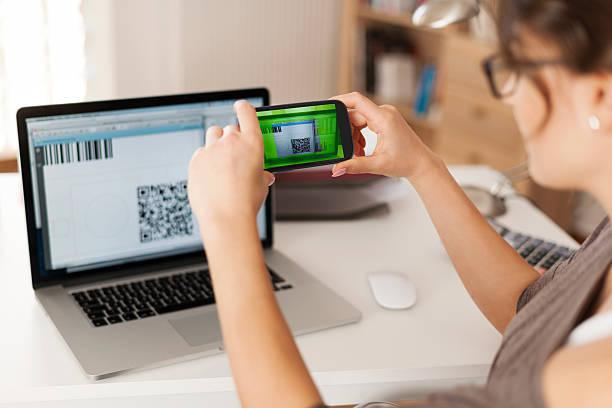Finder pattern: (136, 226, 154, 247), (134, 182, 152, 200), (179, 179, 190, 195)
